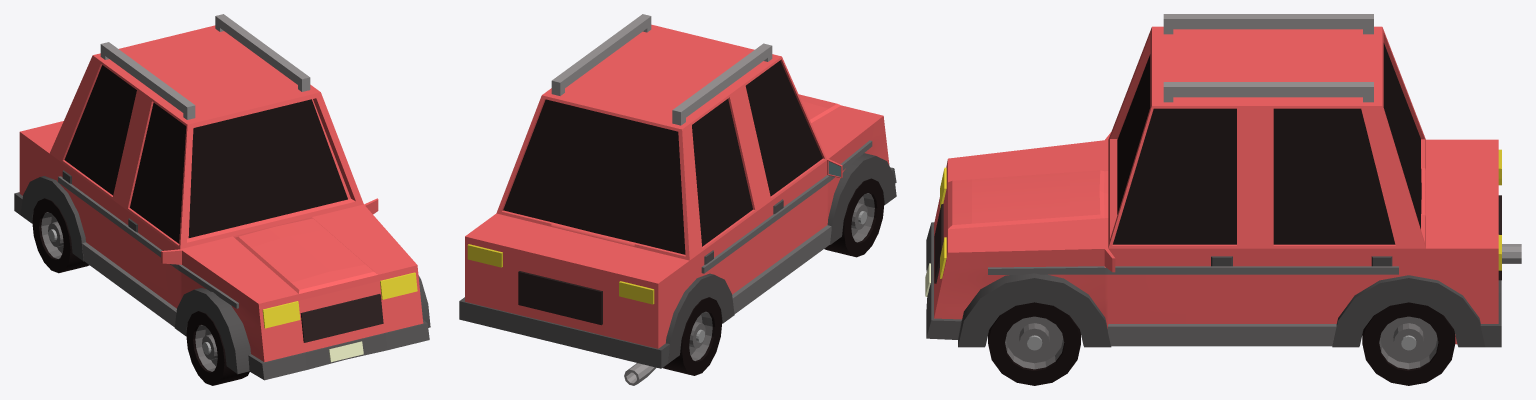
The model's file is Automovil_01.fbx.
3 renders of one model, left to right at view 1: azimuth 30°, elevation 25°; view 2: azimuth 150°, elevation 25°; view 3: azimuth 270°, elevation 25°, orthographic. The views are drawn at different scales.
Parts seen in each view (by area): view 1: polySurface1, Rueda1 (×2), Rueda (×2), pCube1, pCube2, Patente; view 2: polySurface1, Rueda (×2), Rueda1 (×2), pCube1, pCube2, Tubo_Escape; view 3: polySurface1, Rueda (×2), Rueda1 (×2), pCube1, pCube2.
Part boxes in pixels (x1,y1,x2,y2): polySurface1: (14, 25, 429, 380); Rueda1 (×2): (20, 176, 250, 374); Rueda (×2): (32, 198, 249, 385); pCube1: (100, 42, 195, 119); pCube2: (215, 14, 310, 91); Patente: (329, 341, 363, 362); polySurface1: (459, 24, 896, 368); Rueda (×2): (663, 178, 884, 375); Rueda1 (×2): (666, 153, 896, 363); pCube1: (672, 43, 772, 125); pCube2: (551, 14, 651, 95); Tubo_Escape: (624, 363, 656, 385); polySurface1: (926, 26, 1501, 347); Rueda (×2): (988, 302, 1455, 385); Rueda1 (×2): (958, 273, 1485, 347); pCube1: (1163, 14, 1373, 34); pCube2: (1163, 82, 1373, 102).
Size of the model in its own units: 6.06 by 6.12 by 11.9.
